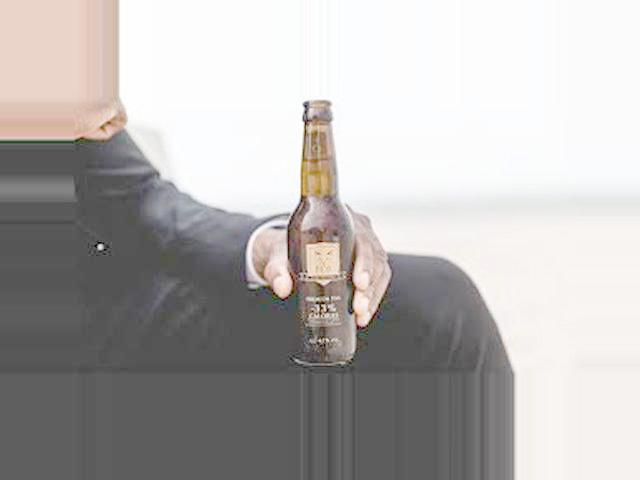beer: (289, 100, 356, 365)
